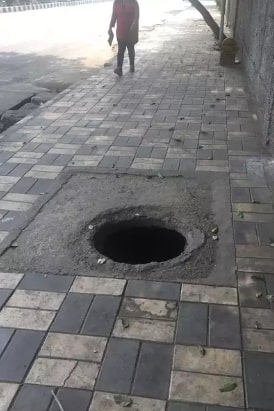open_manhole: (84, 200, 199, 275)
